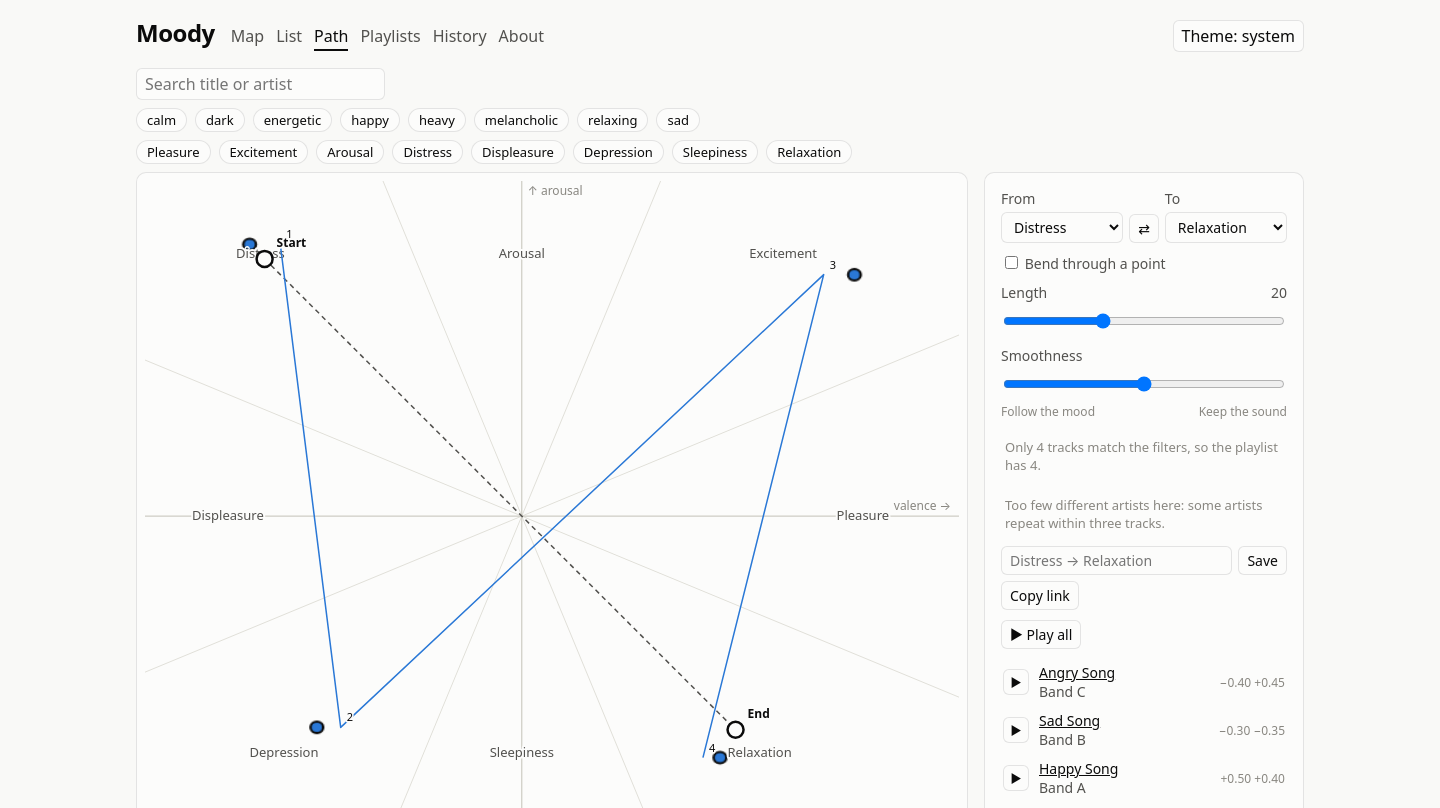
it: bending adds a via point, and filters limit the playlist
Click the checkbox labelled "Bend through a point" at (1012, 262), box x1=1005 y1=256 x2=1018 y2=269
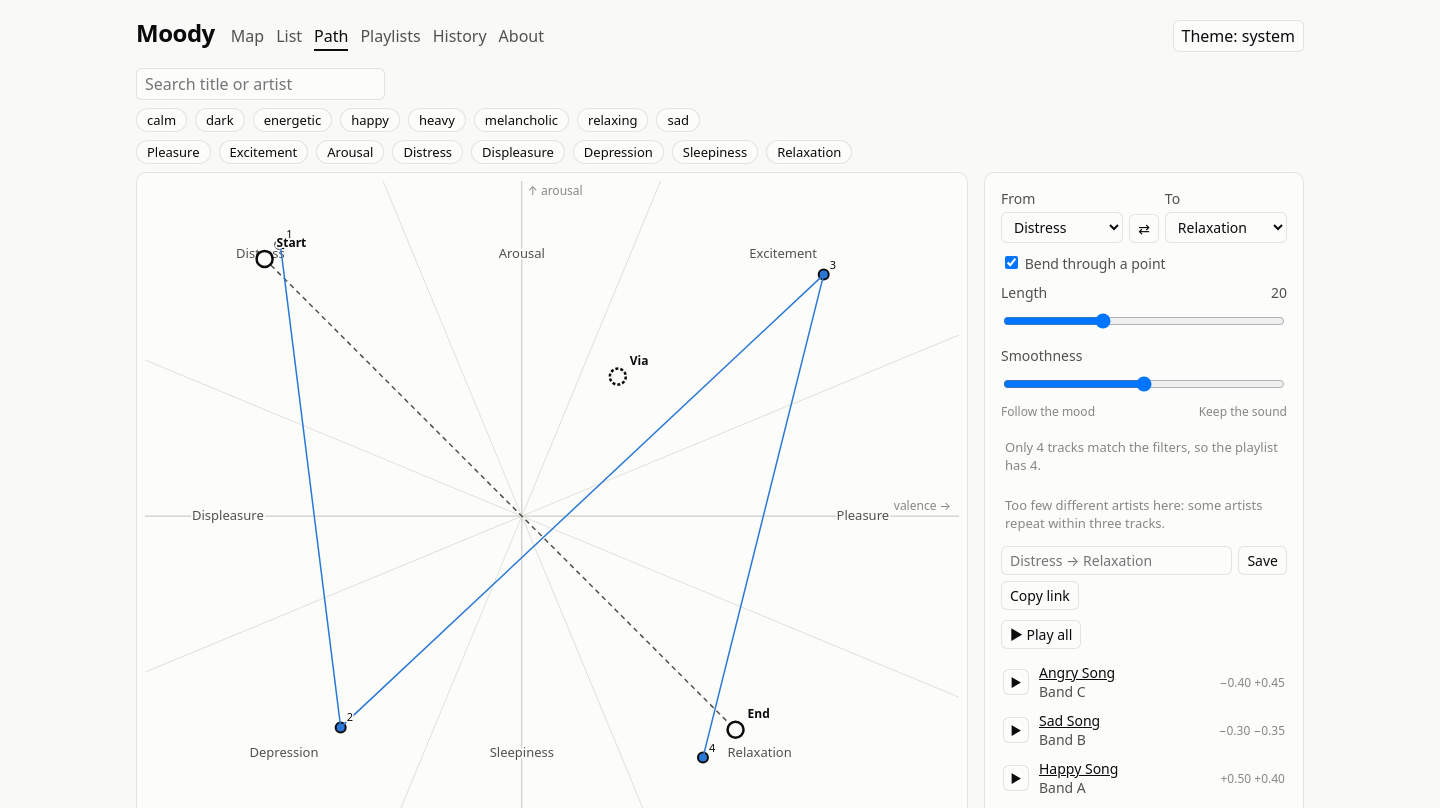
Check: the button "Via: valence" is shown, box x1=630 y1=352 x2=648 y2=369
Click the button "happy" at (370, 120), box x1=340 y1=108 x2=400 y2=132
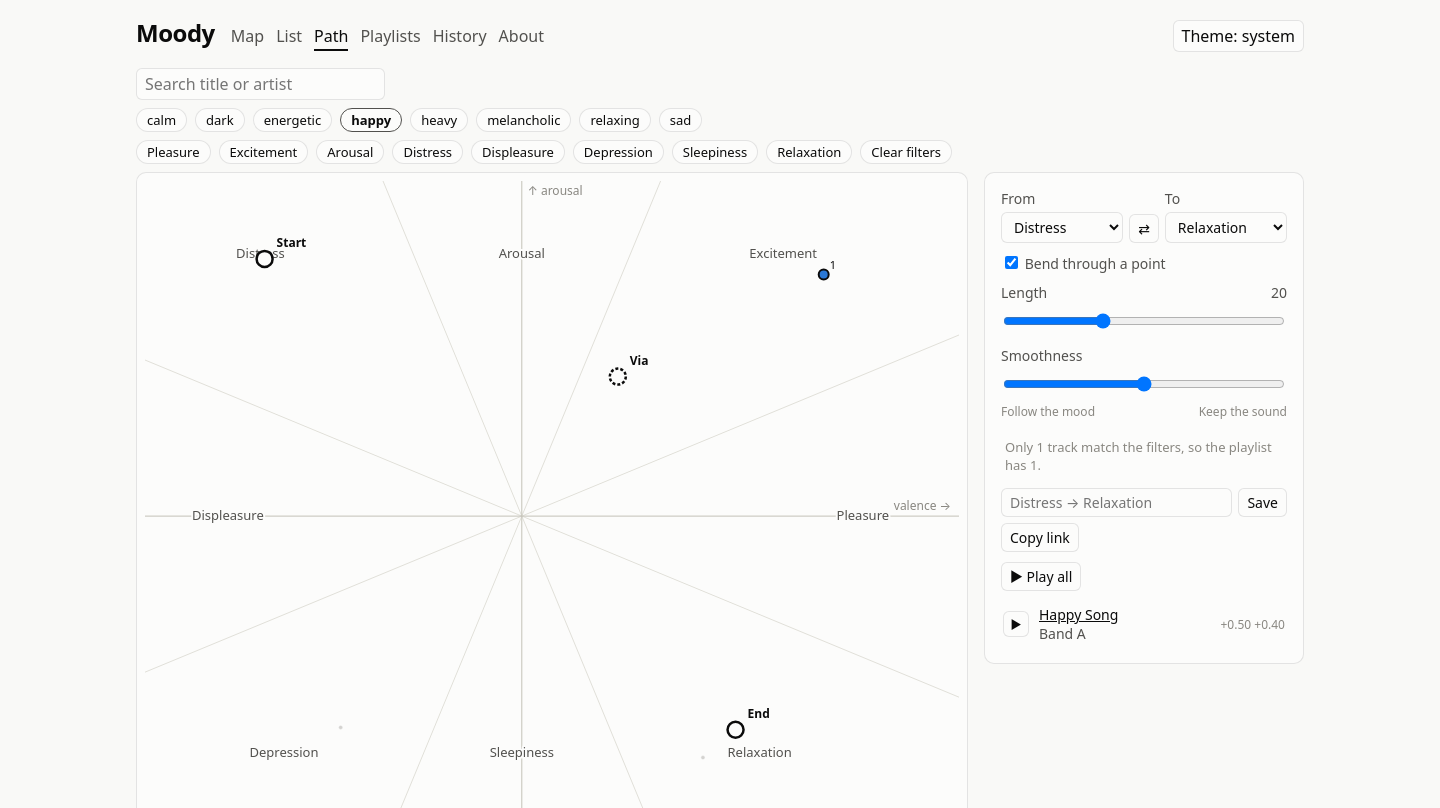
Check: the text "Only 1 track match the filters, so the playlist has 1." is shown, box x1=1005 y1=438 x2=1283 y2=474
